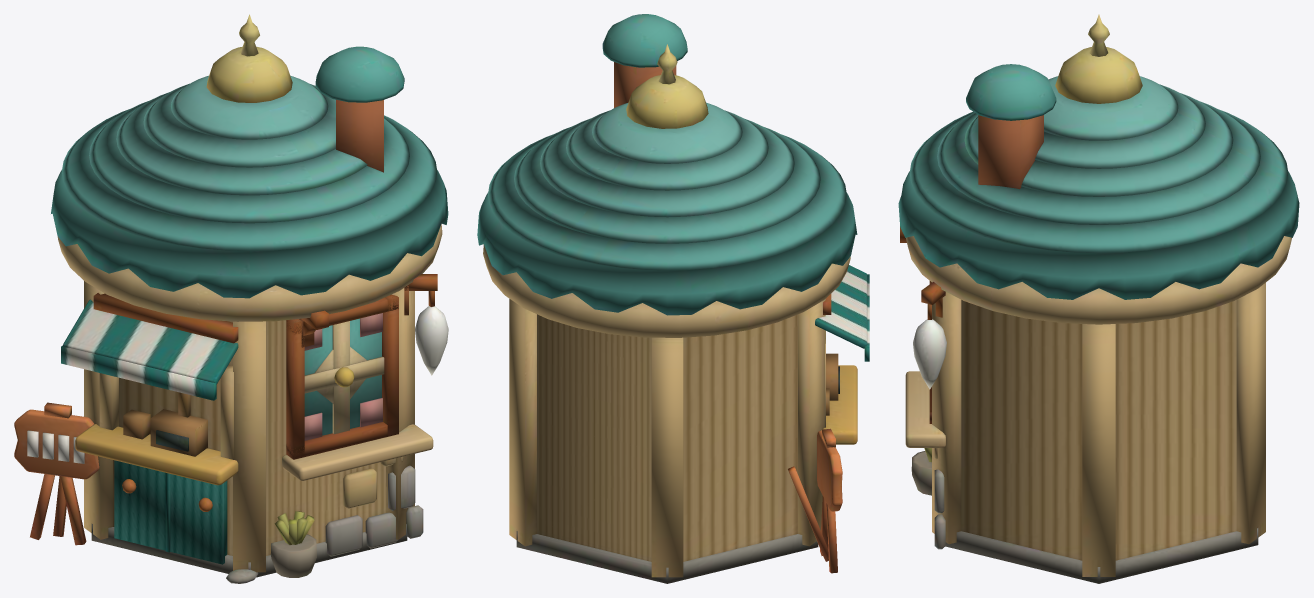
Rendered from kiosk_3_high.glb.
3 renders of one model, left to right at view 1: azimuth 30°, elevation 25°; view 2: azimuth 150°, elevation 25°; view 3: azimuth 270°, elevation 25°, orthographic. The views are drawn at different scales.
Visible parts, largest first — view 1: kiosk_3; view 2: kiosk_3; view 3: kiosk_3.
Boxes of the visible parts, x1,y1,x2,y2 form: kiosk_3: (14,14,448,583); kiosk_3: (477,14,869,583); kiosk_3: (898,14,1299,583).
Size of the model in its own units: 1.2 by 1.47 by 1.08.
1 material, 1 textured.
